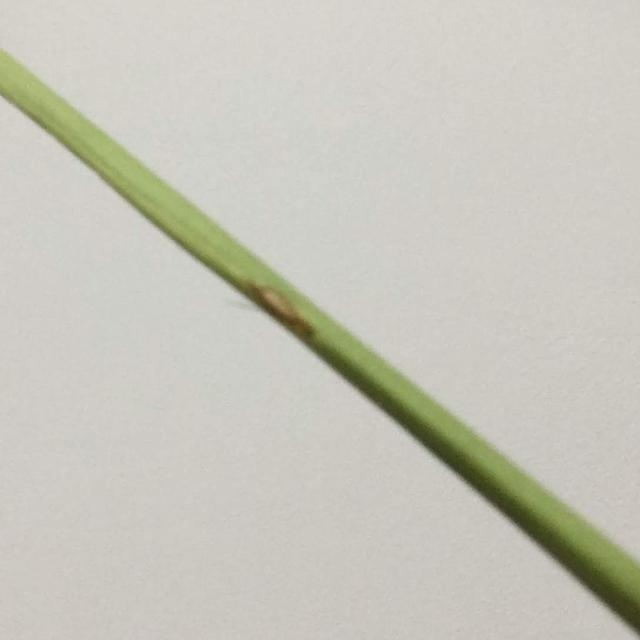Leaf_Blast: (213, 255, 344, 371)
